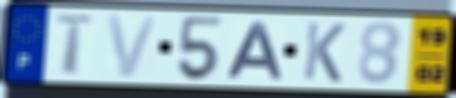5: (175, 14, 224, 83)
8: (356, 19, 406, 88)
A: (224, 20, 287, 81)
K: (301, 19, 349, 85)
T: (51, 13, 99, 77)
V: (104, 12, 162, 80)
